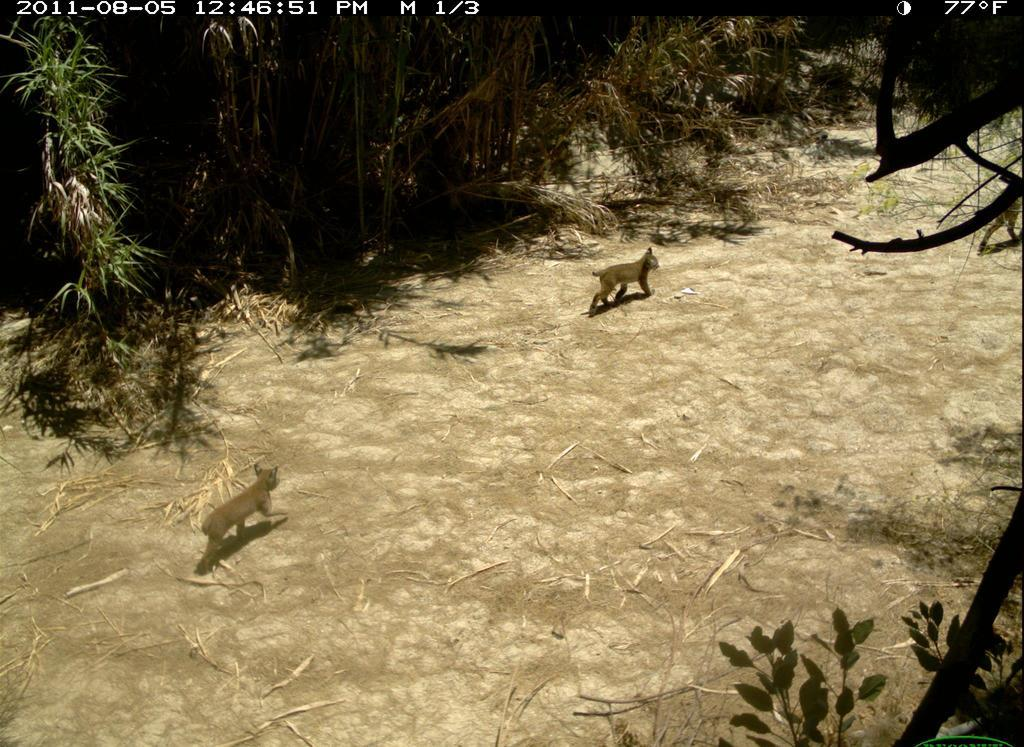bobcat: (193, 460, 283, 583), (585, 245, 664, 321)
